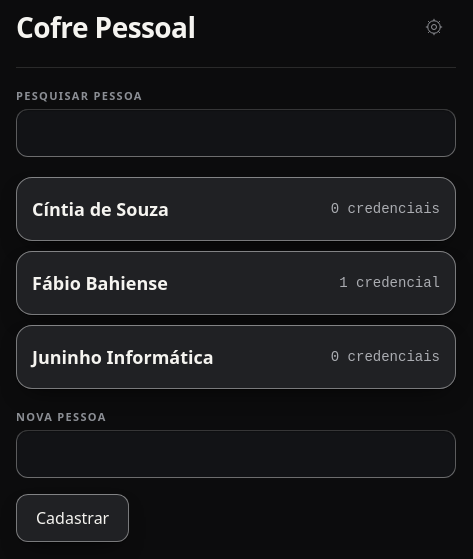
it: PeopleScreen › filtra pela busca
The image size is (473, 559).
Type "Cíntia" into the search field labelled "Pesquisar pessoa" at (236, 133), box [16,109,456,157]
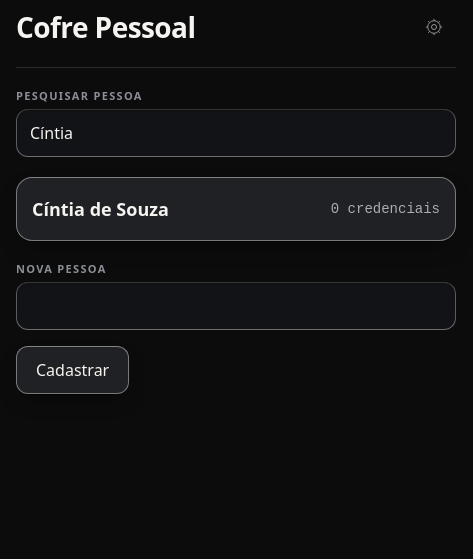
Check: the text "Cíntia de Souza" is shown, box [32,197,169,221]
Check: the button "Fábio Bahiense" is gone
